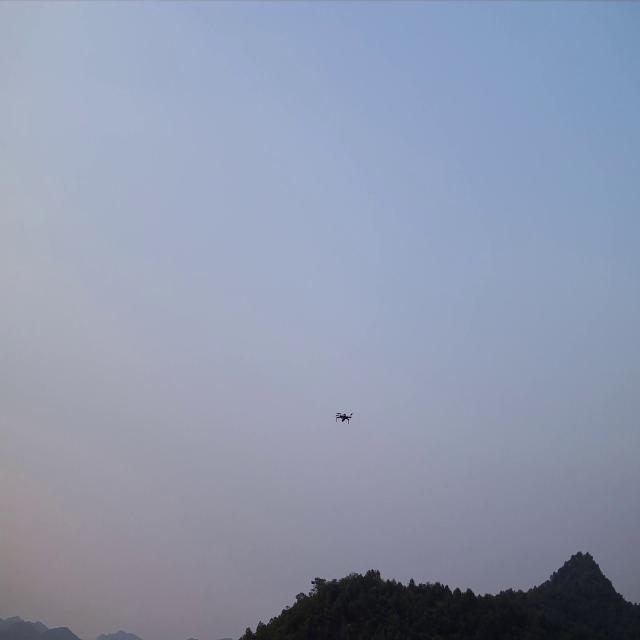UAV: (332, 408, 354, 426)
